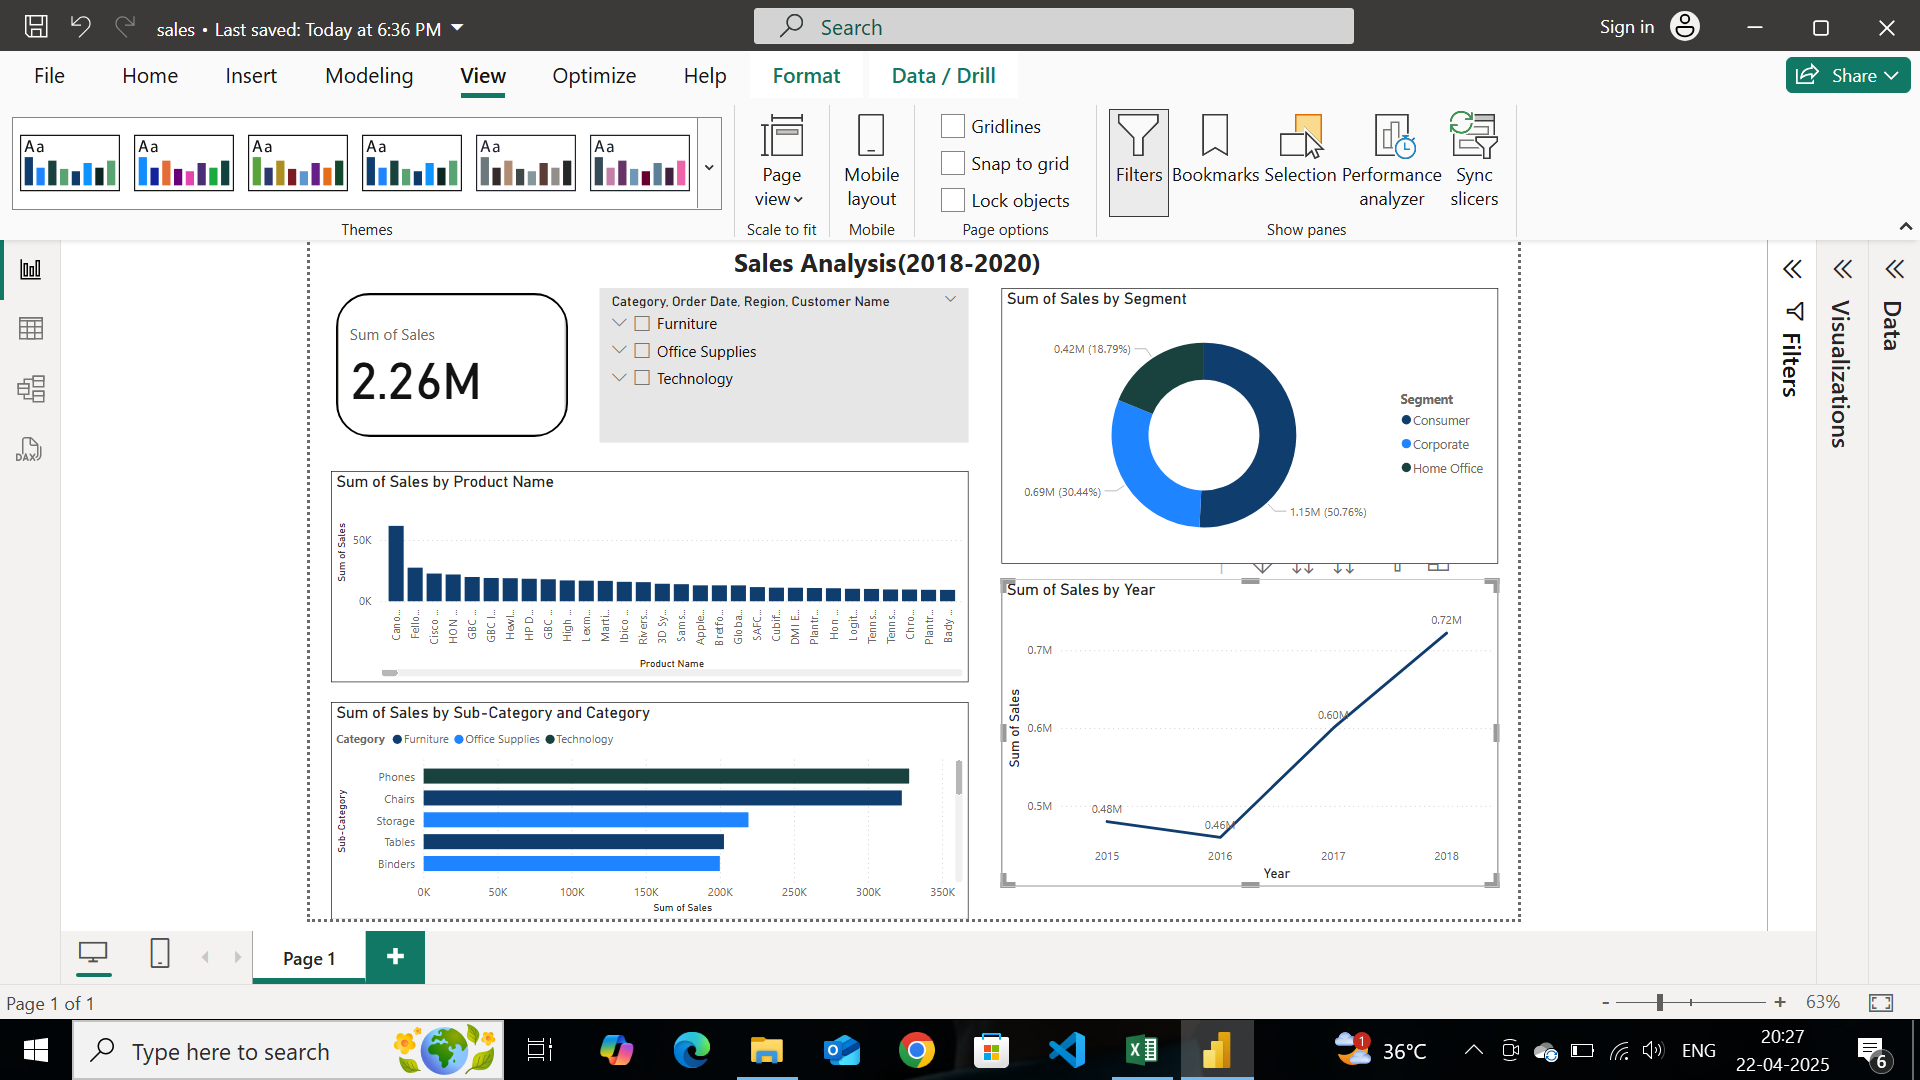

What the dashboard file says about the page in this screenshot:
{"tool":"powerbi","page":{"name":"Page 1","canvas":[1280,720],"ordinal":0},"visuals":[{"type":"cardVisual","fields":{"Data":["Sum(train.Sales)"]},"box":[22.3,50.9,256.1,163.8],"z":0},{"type":"barChart","fields":{"Category":["train.Sub-Category"],"Series":["train.Category"],"Y":["Sum(train.Sales)"]},"box":[22.3,489.9,676,230.6],"z":1000},{"type":"lineChart","fields":{"Category":["train.Order Date.Variation.Date Hierarchy.Year","train.Order Date.Variation.Date Hierarchy.Month"],"Y":["Sum(train.Sales)"]},"box":[733.3,359.5,526.5,326.1],"z":2000},{"type":"columnChart","fields":{"Category":["train.Product Name"],"Y":["Sum(train.Sales)"]},"box":[22.3,245,676,224.3],"z":3000},{"type":"donutChart","fields":{"Category":["train.Segment"],"Y":["Sum(train.Sales)"]},"box":[733.3,50.9,526.5,292.7],"z":4000},{"type":"slicer","fields":{"Values":["train.Category","train.Order Date","train.Region","train.Customer Name"]},"box":[307,50.9,391.3,163.8],"z":5000},{"type":"textbox","box":[130.4,0,963.9,50.9],"z":5001}]}

Visuals, with their boxes on the page's 1280x720 design canvas (x1, y1, x2, y2). These are canvas units, not pixel positions in the 1920x1080 screenshot, which may show the page scaled, cropped or inside an application window:
cardVisual - Sum(train.Sales): <box>22,51,278,215</box>
barChart - train.Sub-Category x train.Category: <box>22,490,698,720</box>
lineChart - train.Order Date.Variation.Date Hierarchy.Year x train.Order Date.Variation.Date Hierarchy.Month: <box>733,360,1260,686</box>
columnChart - train.Product Name x Sum(train.Sales): <box>22,245,698,469</box>
donutChart - train.Segment x Sum(train.Sales): <box>733,51,1260,344</box>
slicer - train.Category x train.Order Date: <box>307,51,698,215</box>
textbox: <box>130,0,1094,51</box>
